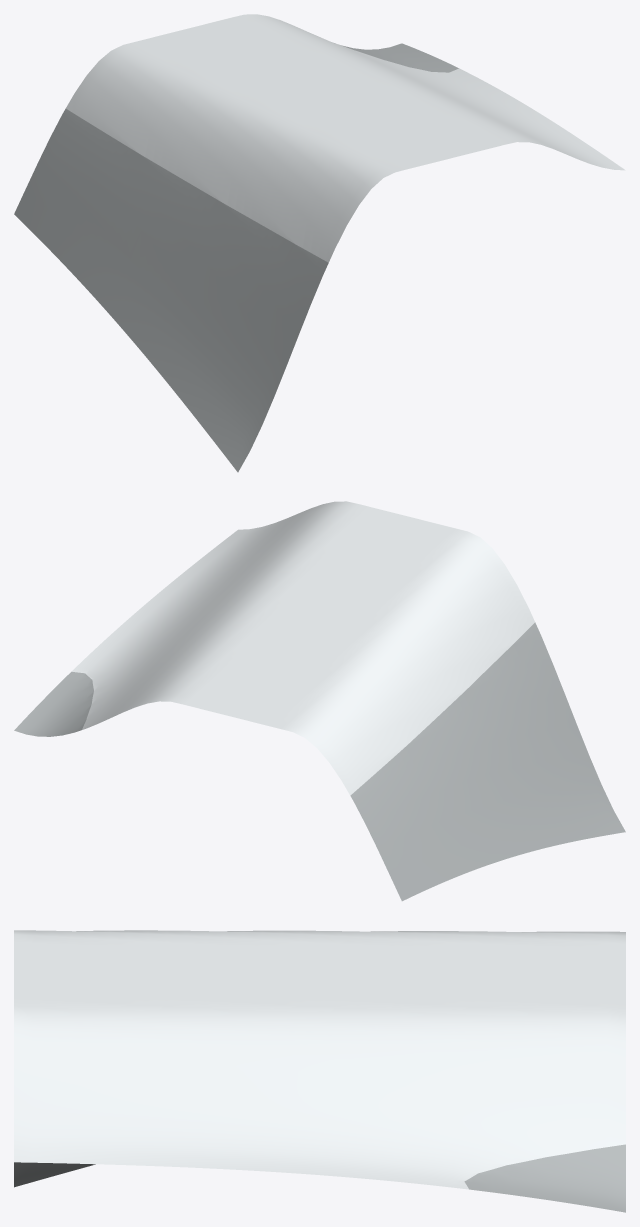
Rendered from alpine-12-9.glb.
3 renders of one model, top to bottom at view 1: azimuth 30°, elevation 25°; view 2: azimuth 150°, elevation 25°; view 3: azimuth 270°, elevation 25°, orthographic. The views are drawn at different scales.
Parts seen in each view (by area): view 1: alpine-12-9; view 2: alpine-12-9; view 3: alpine-12-9.
Boxes of the visible parts, x1,y1,x2,y2 form: alpine-12-9: (14, 14, 625, 472); alpine-12-9: (14, 501, 625, 901); alpine-12-9: (14, 930, 625, 1212).
Bounding box in the file's own units: 256 × 166 × 256.
Materials: 2 (2 with a texture image).
